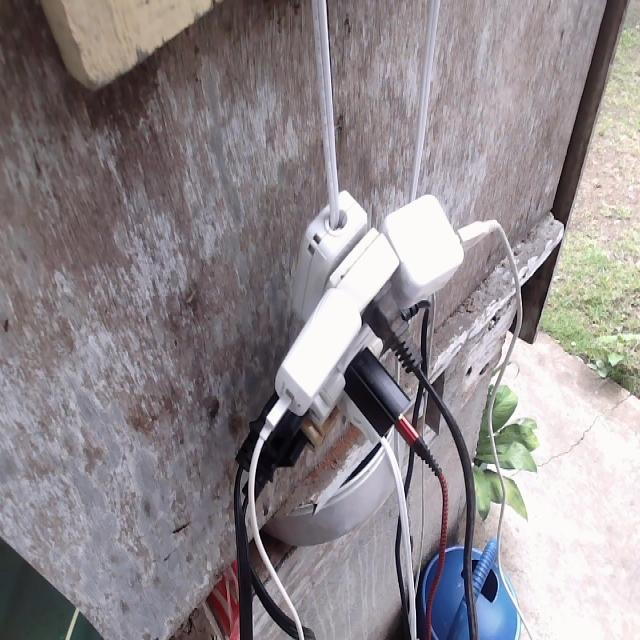-: (231, 185, 514, 524)
